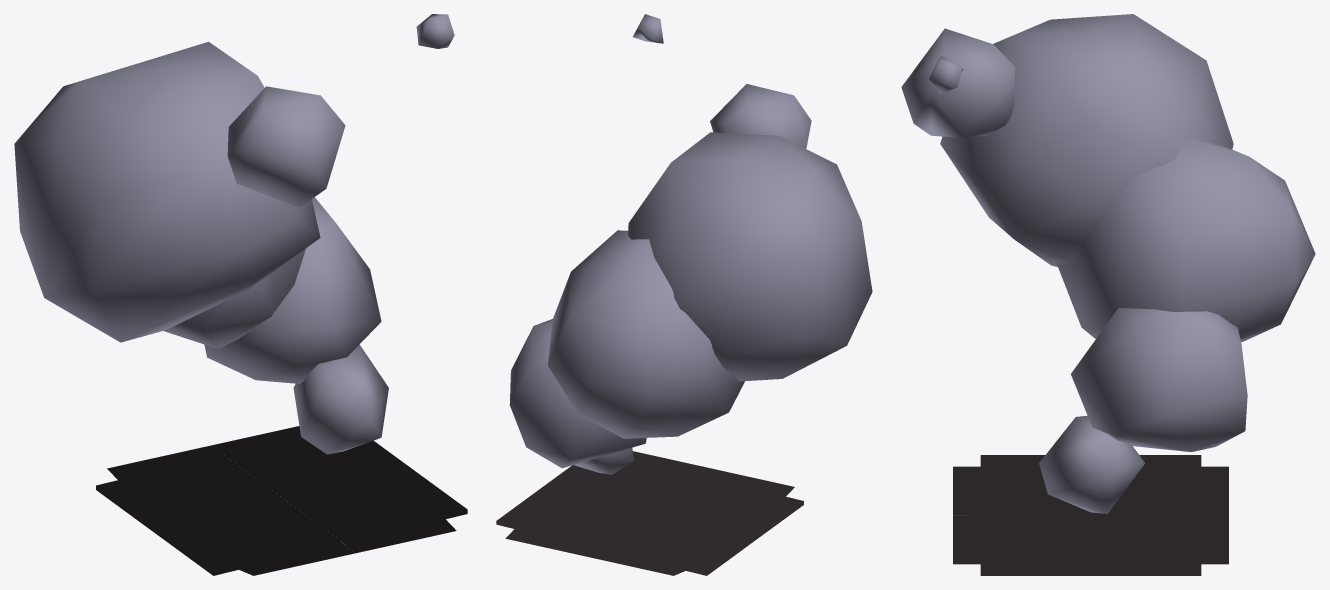
The model's file is smoke-puff-pixor-blocky_lod1.glb.
The picture shows the model from 3 angles, left to right: view 1: azimuth 30°, elevation 25°; view 2: azimuth 150°, elevation 25°; view 3: azimuth 270°, elevation 25°; orthographic projection. The views are drawn at different scales.
Parts seen in each view (by area): view 1: Smoke, Smoke scorch; view 2: Smoke, Smoke scorch; view 3: Smoke, Smoke scorch.
Boxes of the visible parts, bbox=[...] form: Smoke: bbox=[14, 14, 454, 454]; Smoke scorch: bbox=[96, 426, 467, 575]; Smoke: bbox=[509, 14, 872, 474]; Smoke scorch: bbox=[496, 451, 803, 575]; Smoke: bbox=[901, 14, 1315, 513]; Smoke scorch: bbox=[953, 455, 1228, 575].
Size of the model in its own units: 0.8346 by 1.14 by 0.8697.
